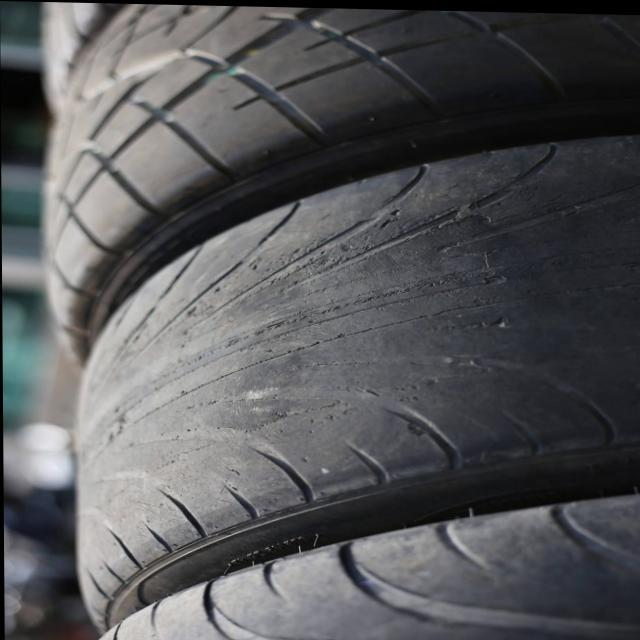Flat spots: (76, 255, 639, 497)
Non-defective: (41, 4, 187, 208), (244, 572, 638, 640)
